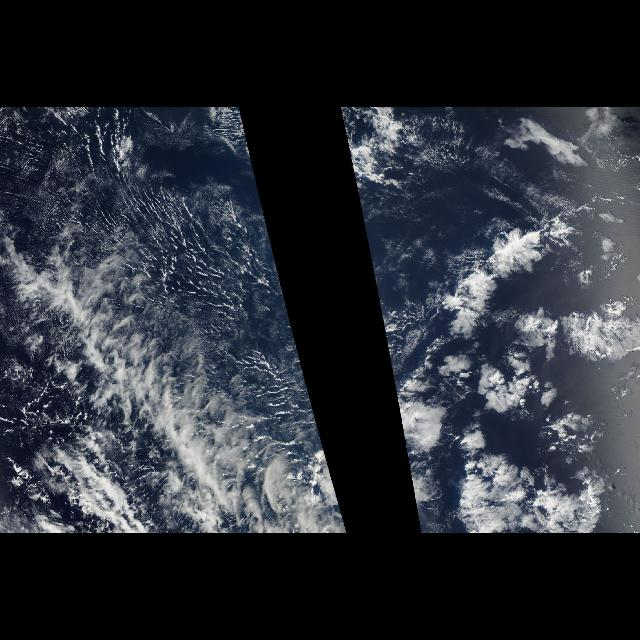Flower: (364, 212, 640, 534)
Sugar: (1, 113, 276, 267)
